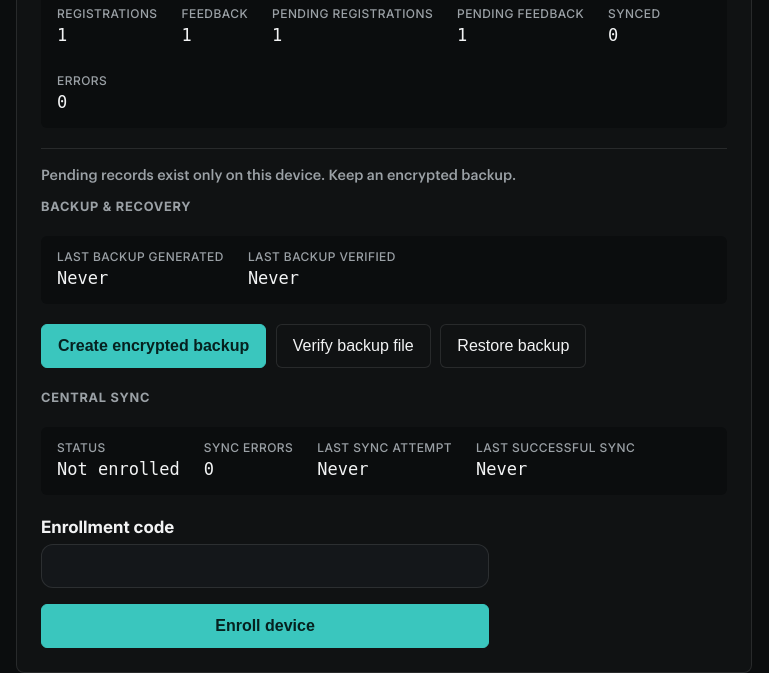
Test: creating a backup › says generated, never stored
(page scrolled)
Click the button "Create encrypted backup": (154, 346) [41,324,266,368]
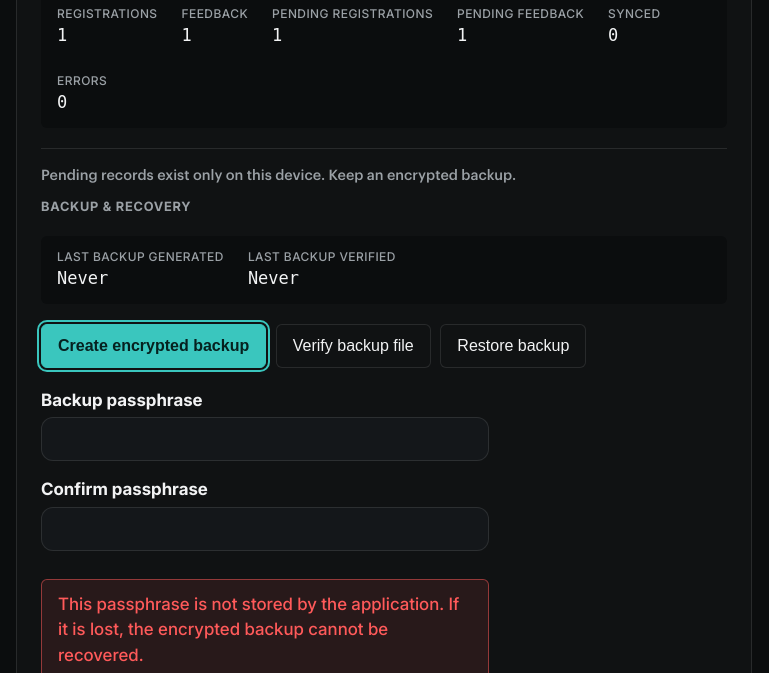
In the password field labelled "Backup passphrase": (265, 439) [41,417,489,461], type "a passphrase of sufficient length"
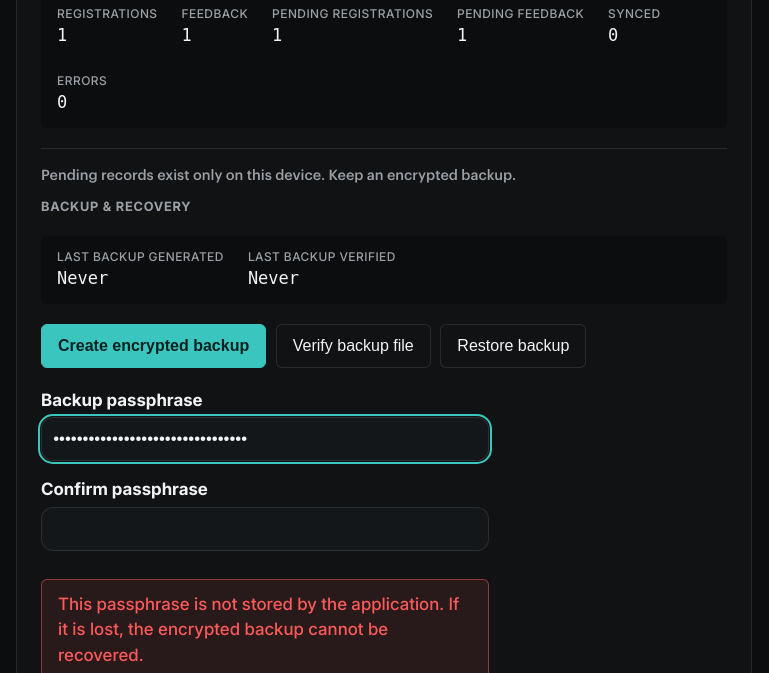
In the password field labelled "Confirm passphrase": (265, 529) [41,507,489,551], type "a passphrase of sufficient length"
(page scrolled)
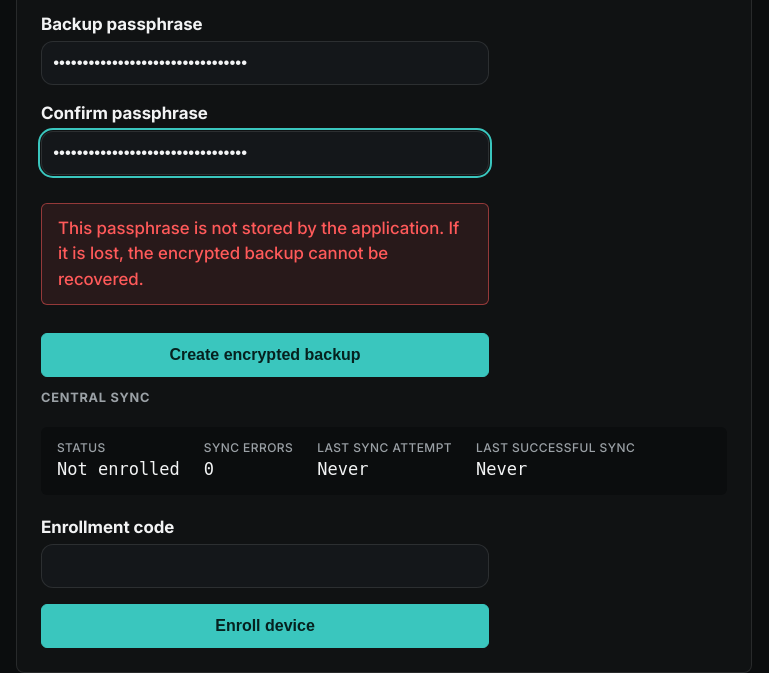
Click the button "Create encrypted backup" below "Confirm passphrase": (265, 355) [41,333,489,377]
(page scrolled)
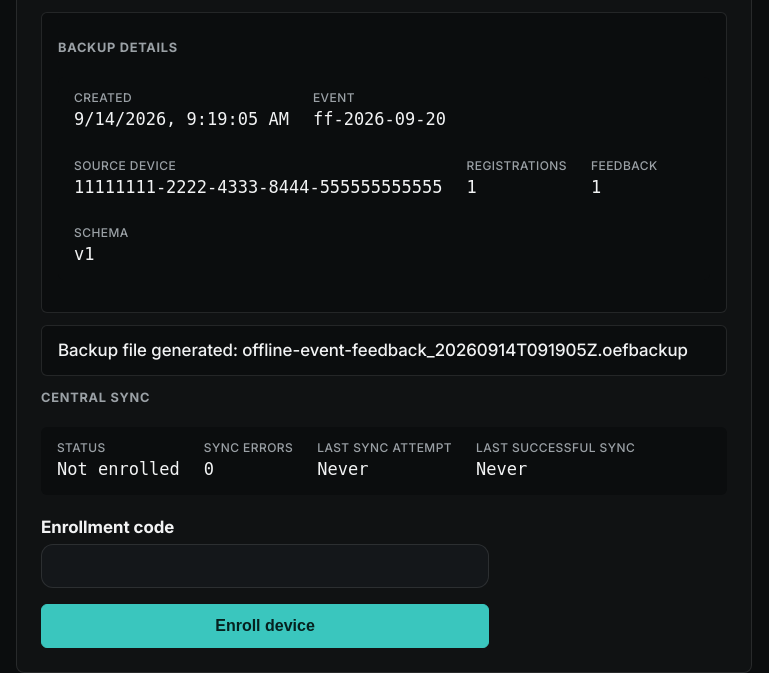
expect the message with test id "backup-message" shows "generated": met, box [58,340,688,360]
